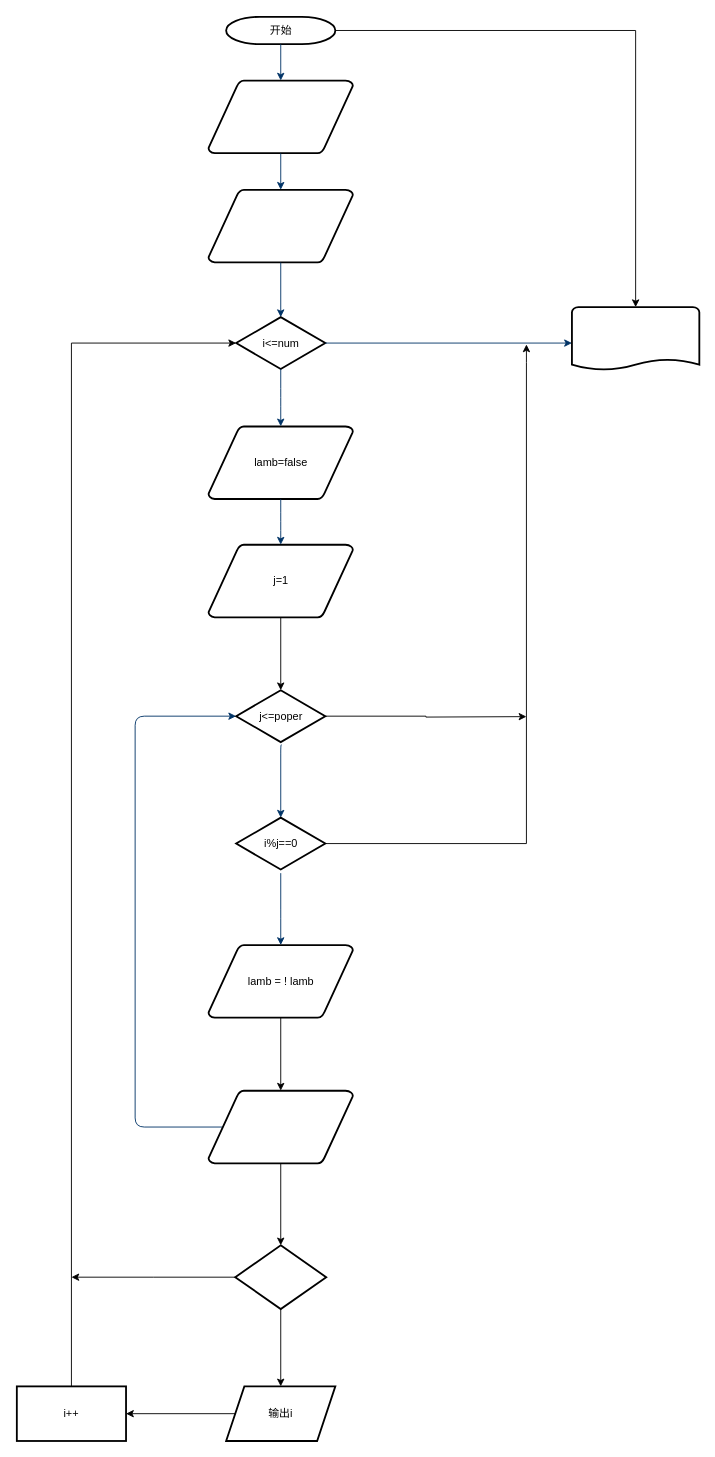
Image size: 715x1457. Some labels were removed from this diagram. Each missing label, with the box of its shape:
i=1: (207, 188, 354, 263)
j++: (207, 1089, 354, 1164)
lamb: (234, 1244, 327, 1309)
结束: (571, 306, 700, 371)
输入灯数 输入人数: (207, 79, 354, 154)
